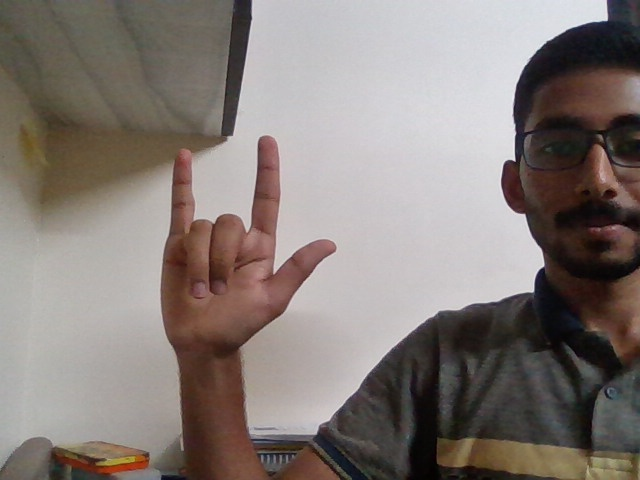Enjoy: (144, 123, 352, 404)
